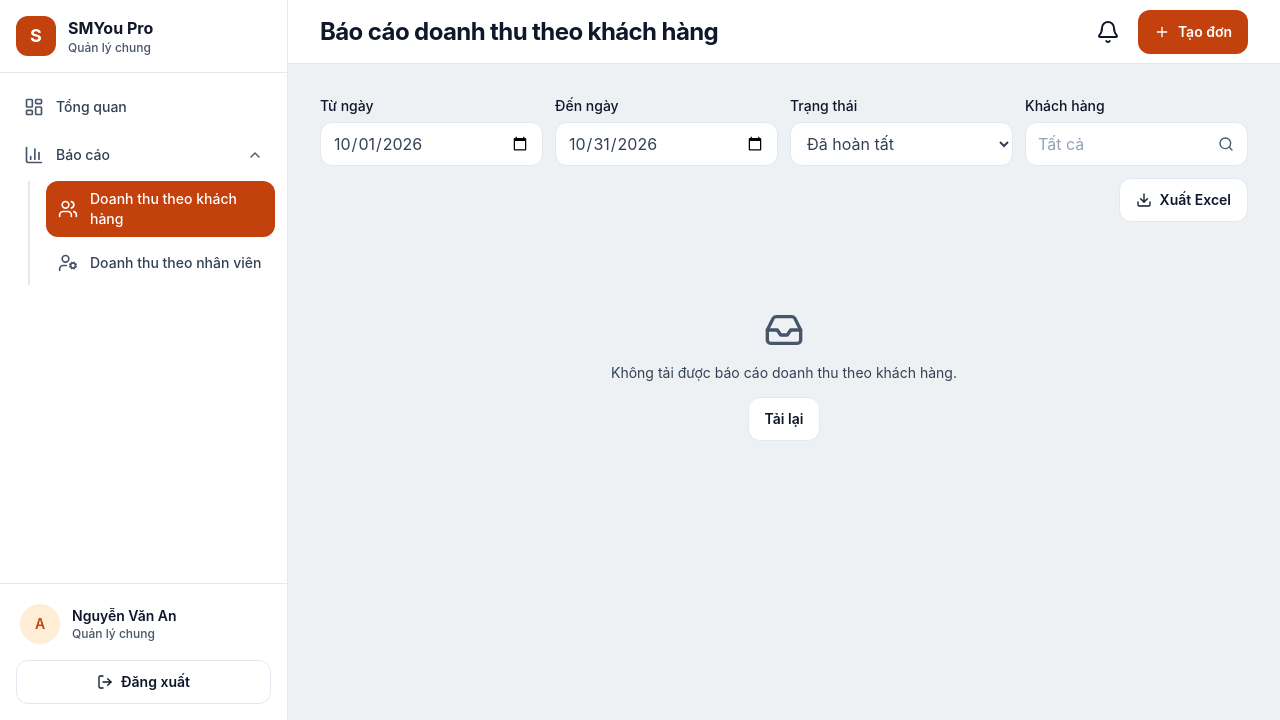
Test case: Báo cáo doanh thu theo khách hàng › AC-RPT-018 lỗi API mạng/5xx → trạng thái lỗi chung + nút Tải lại hoạt động
The width and height of the screenshot is (1280, 720).
Expected: the text "Không tải được báo cáo doanh thu theo khách hàng." is shown, [611,362,957,385]
Click the button "Tải lại": (784,419) [748,397,820,441]
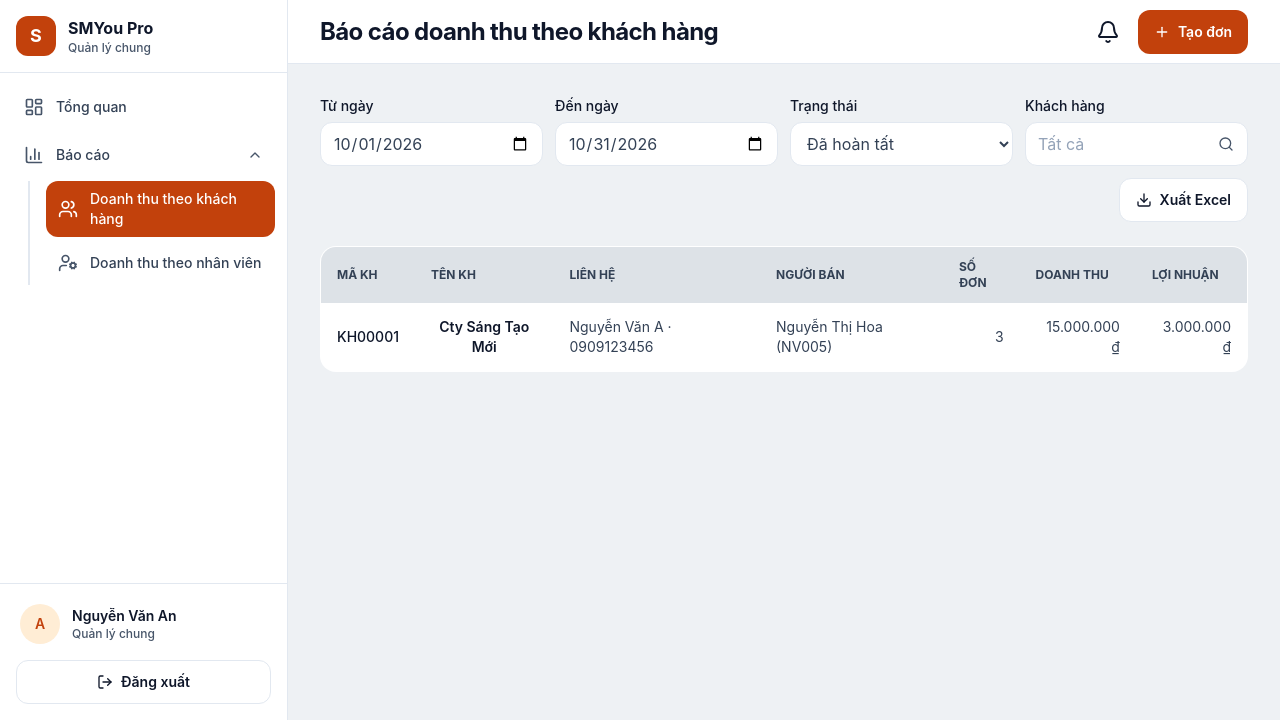
Result: the button "Cty Sáng Tạo Mới" is shown at [431,315,538,359]
